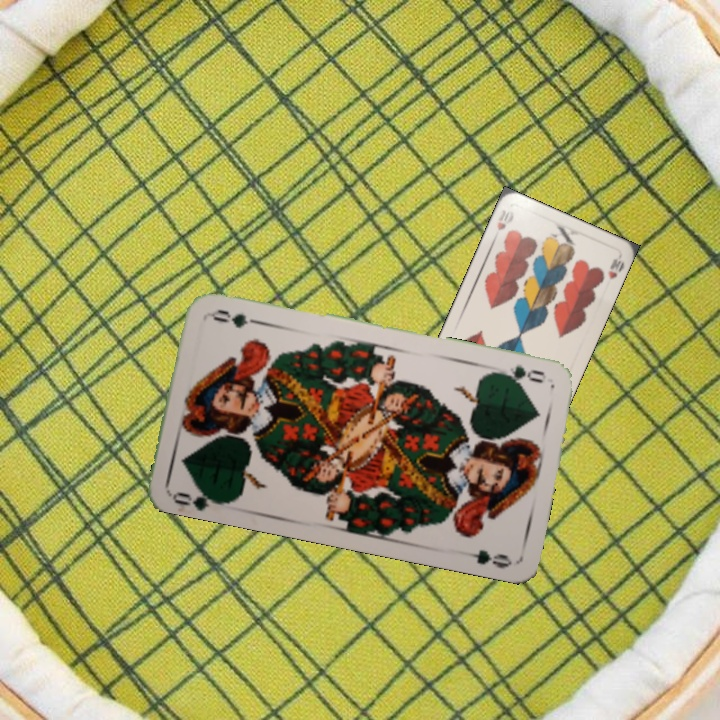GO: (170, 482, 230, 512), (492, 361, 547, 386)
H10: (493, 205, 512, 233)
